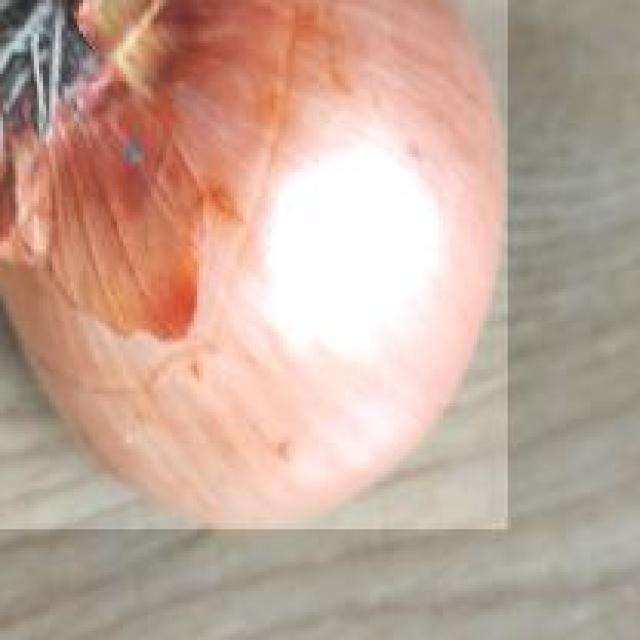onion: (1, 0, 508, 532)
